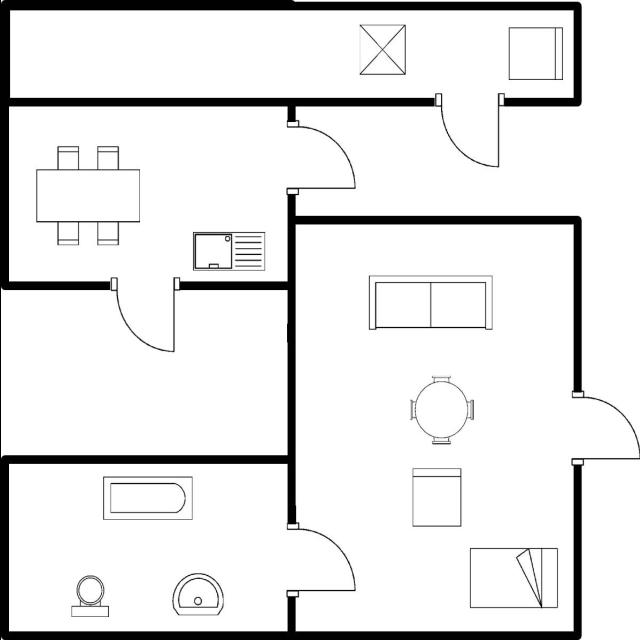bed: (463, 542, 562, 616)
coffee_table: (354, 20, 410, 80)
dining_table: (30, 140, 146, 250), (363, 269, 498, 334)
large_sink: (66, 571, 111, 620)
round_table: (405, 370, 478, 448)
sink: (188, 228, 270, 274)
small_sink: (168, 568, 226, 620)
small_sofa: (501, 21, 566, 86), (407, 463, 468, 532)
tub: (98, 471, 196, 525)
